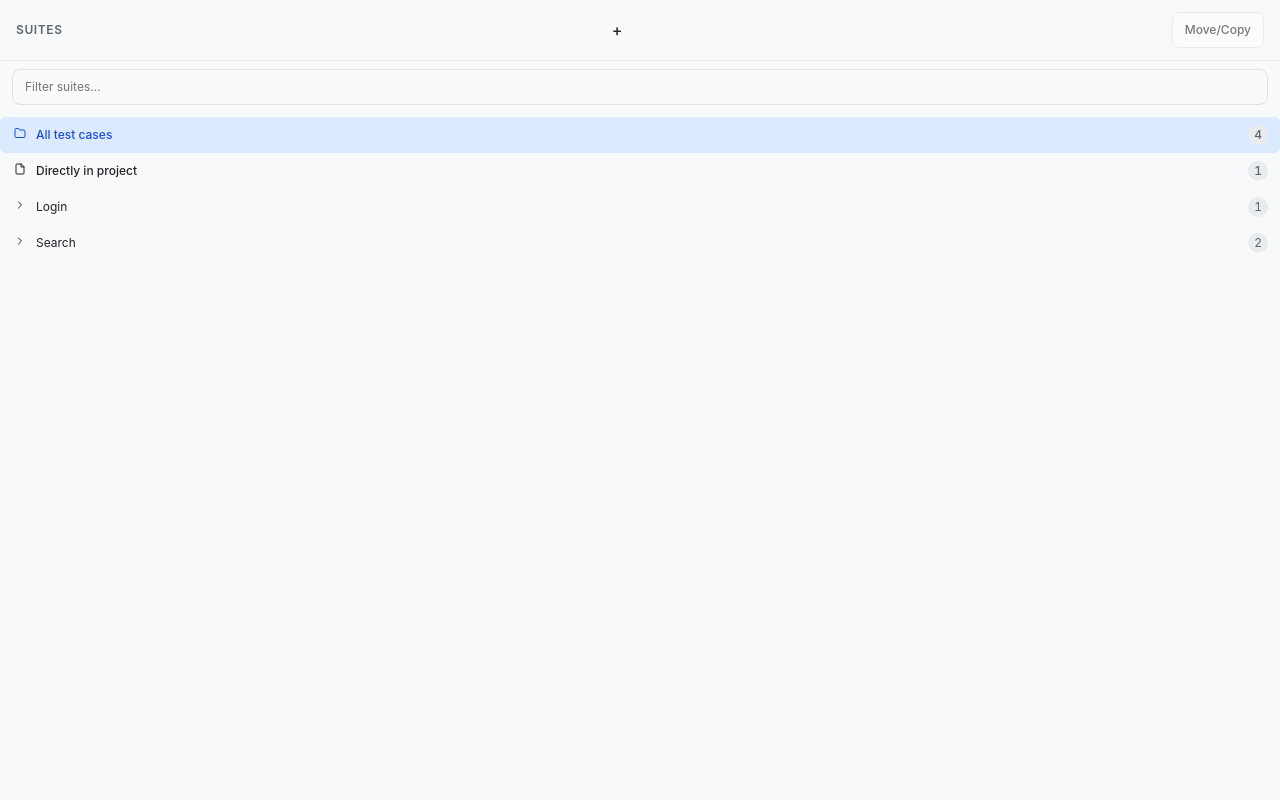
Scenario: SuiteTree › creates a suite, refreshes the tree and selects it
Expected: the button "Login 1" is shown, [0,189,1279,225]
Step 1. Click the button named "New suite" → (617, 30), box [603,15,632,45]
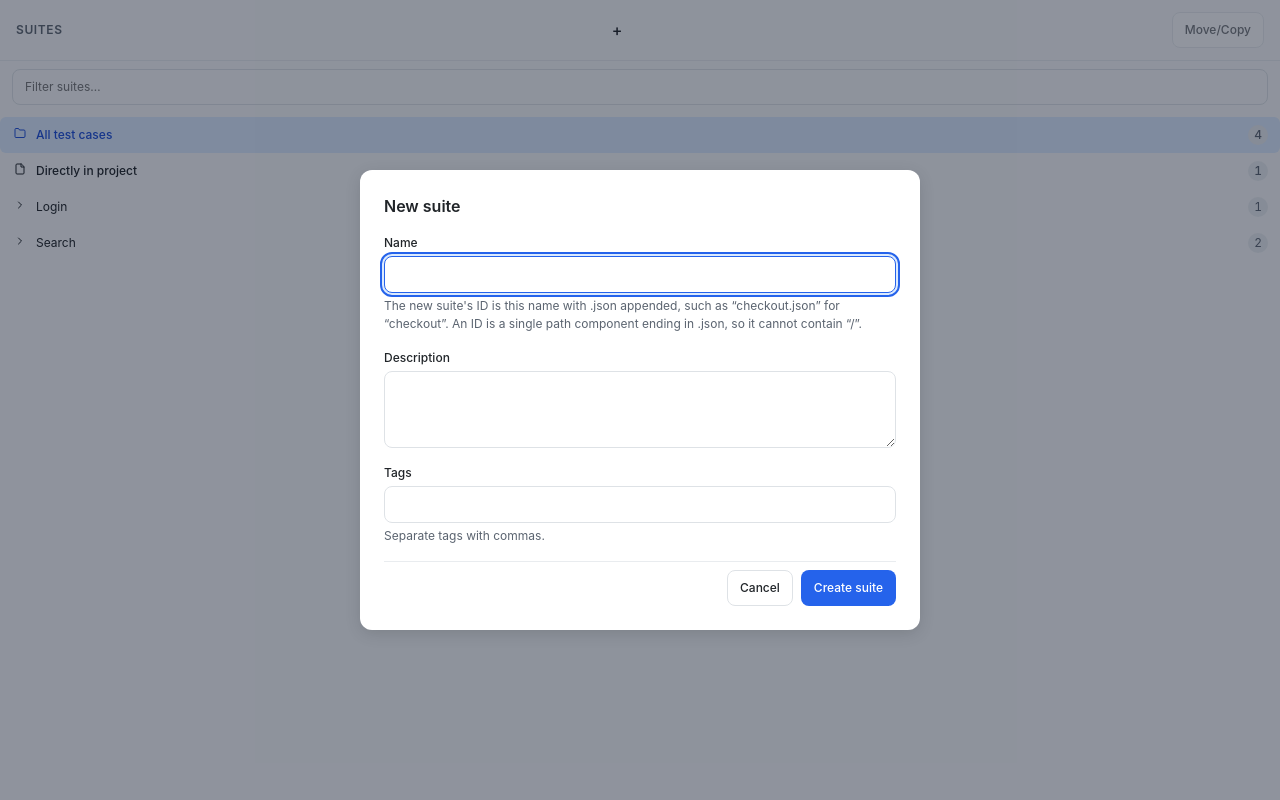
Step 2. Type "Checkout flow" into the field labelled "Name" → (640, 275), box [384,256,896,293]
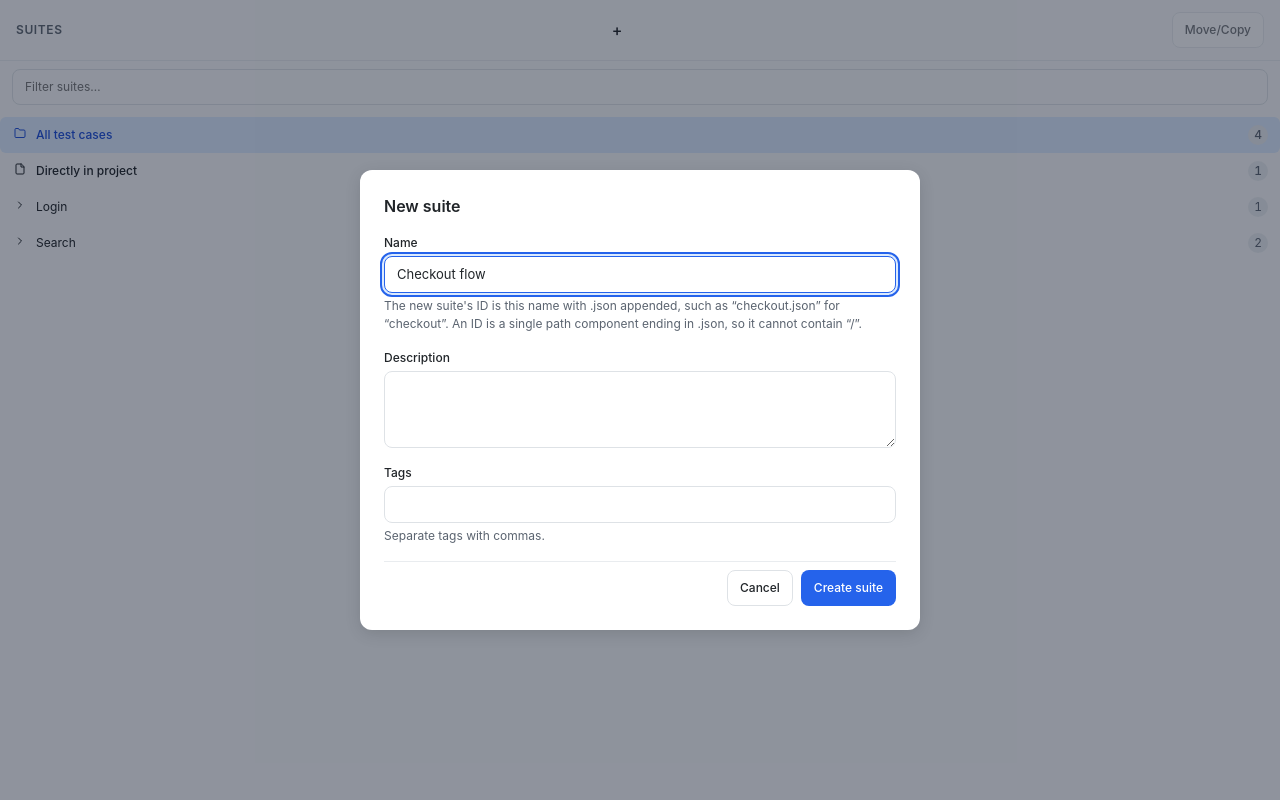
Step 3. Type "Pays for the cart" into the text box labelled "Description" → (640, 410), box [384,371,896,448]
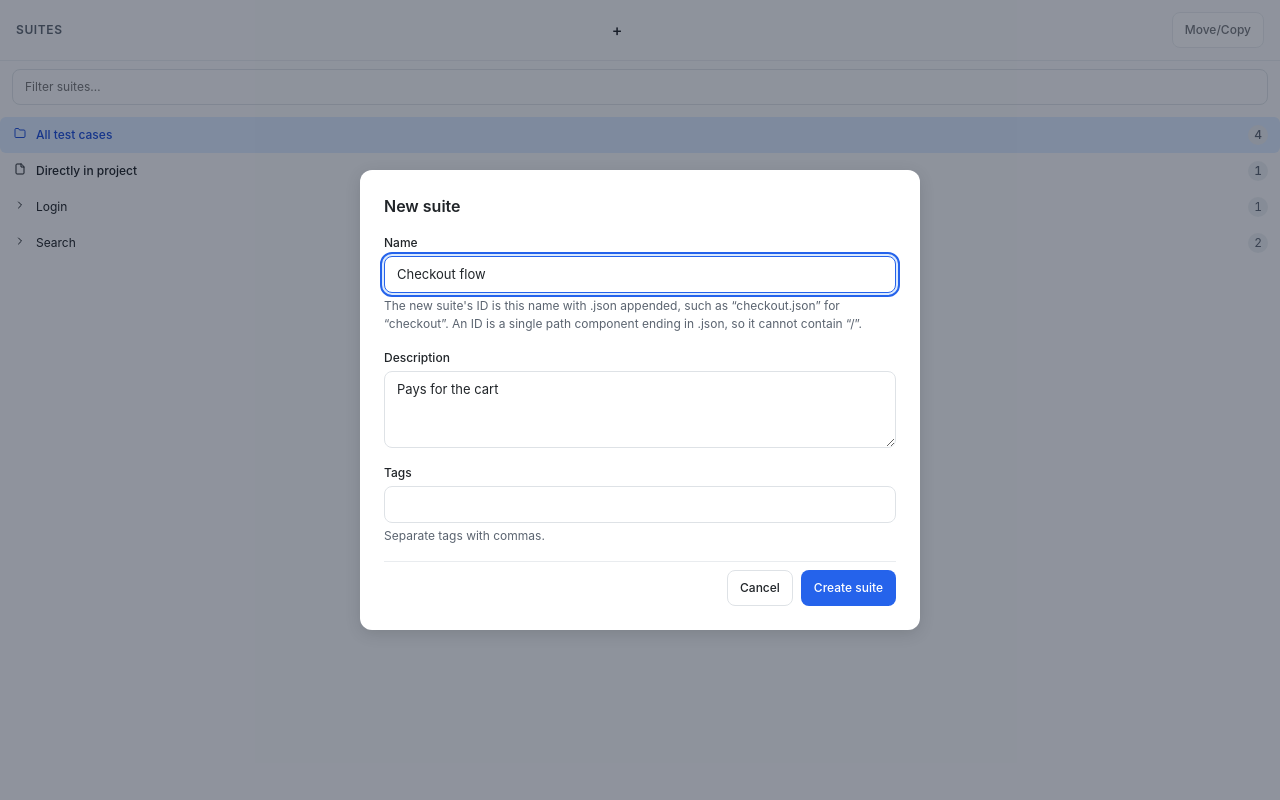
Step 4. Type "web, smoke, web" into the field labelled "Tags" → (640, 505), box [384,486,896,523]
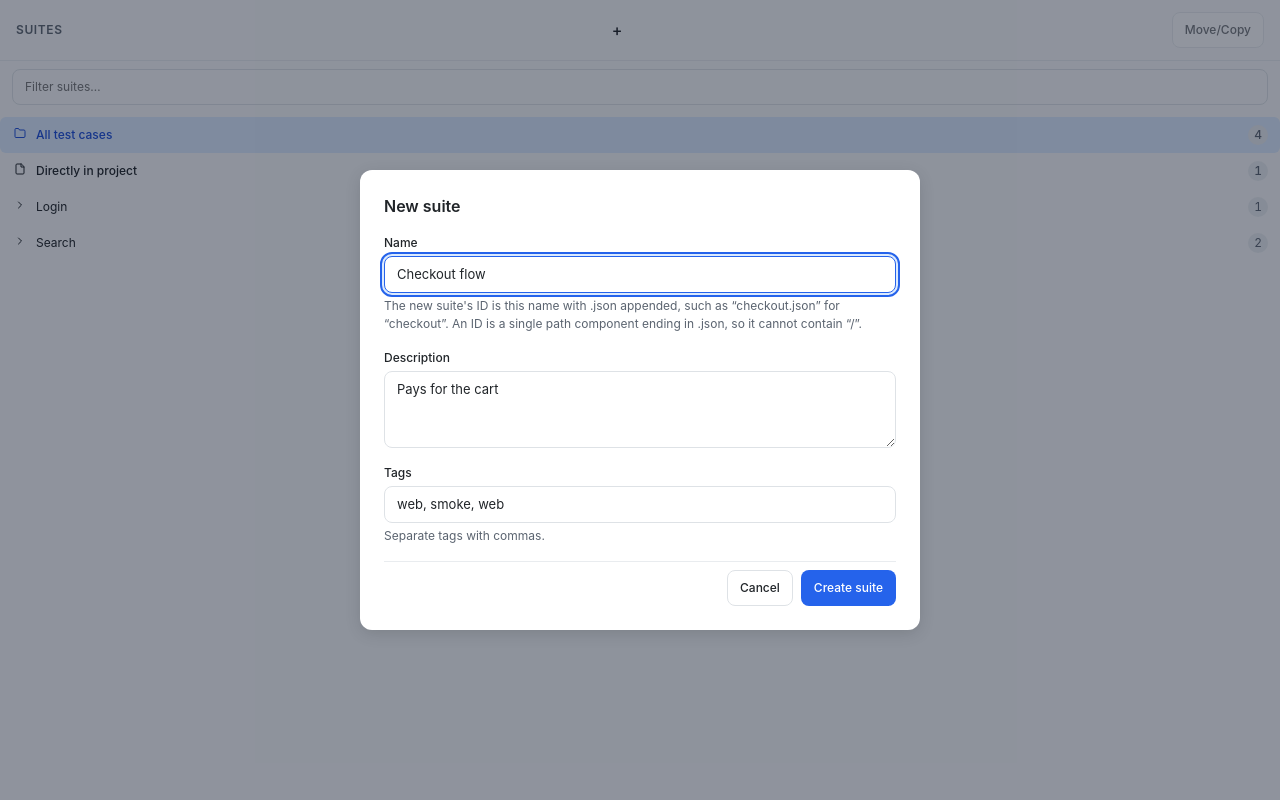
Step 5. Submit the form named "Create suite form", box [384,234,896,606]
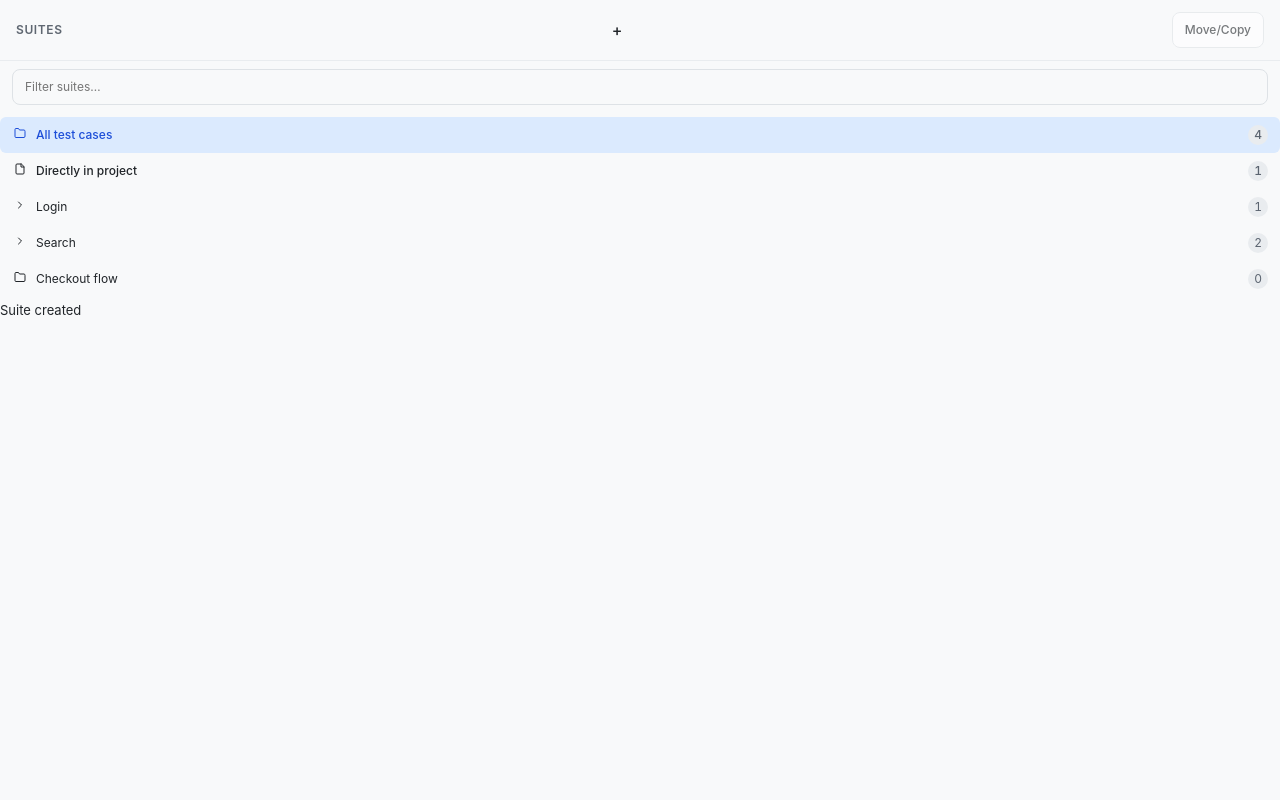
Result: the button "Checkout flow 0" is shown at [0,261,1279,297]
Result: the text with test id "announcement" reads "Suite created" at [0,302,81,318]
Result: the dialog is gone
